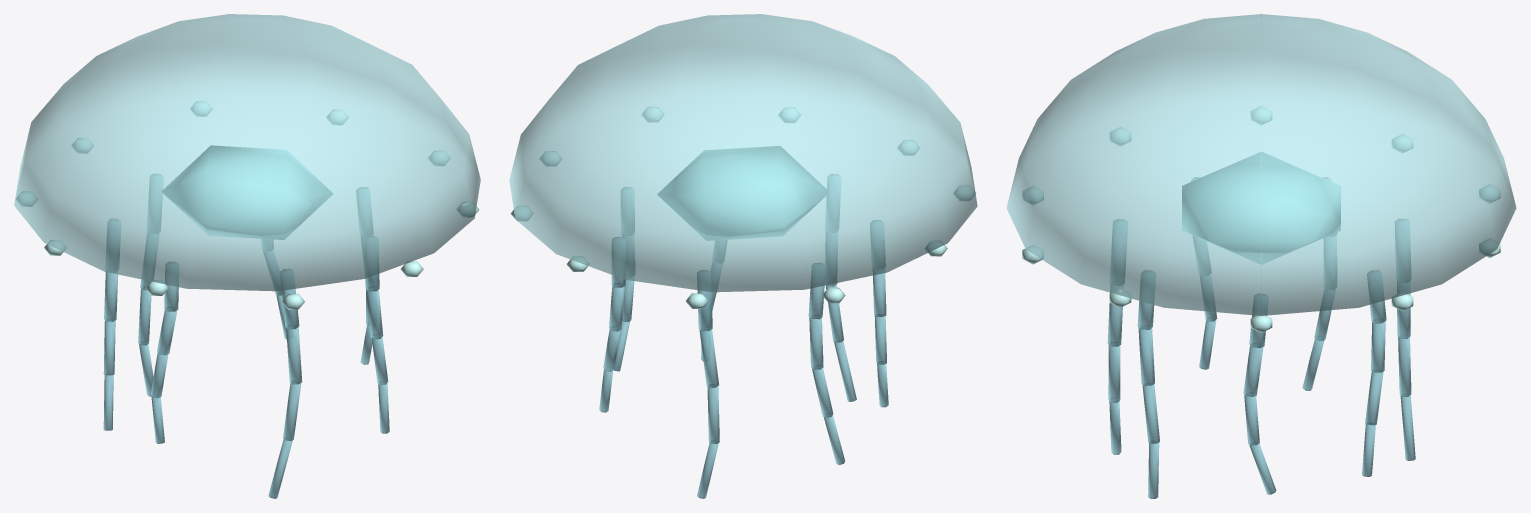
The model's file is creature_jelly.gltf.
3 renders of one model, left to right at view 1: azimuth 30°, elevation 25°; view 2: azimuth 150°, elevation 25°; view 3: azimuth 270°, elevation 25°, orthographic. The views are drawn at different scales.
Parts seen in each view (by area): view 1: SkyJelly; view 2: SkyJelly; view 3: SkyJelly.
Part boxes in pixels (x1=…): SkyJelly: x1=14, y1=14, x2=480, y2=498; SkyJelly: x1=509, y1=14, x2=977, y2=498; SkyJelly: x1=1006, y1=14, x2=1516, y2=498.
Bounding box in the file's own units: 1.2 × 1.11 × 1.2.
